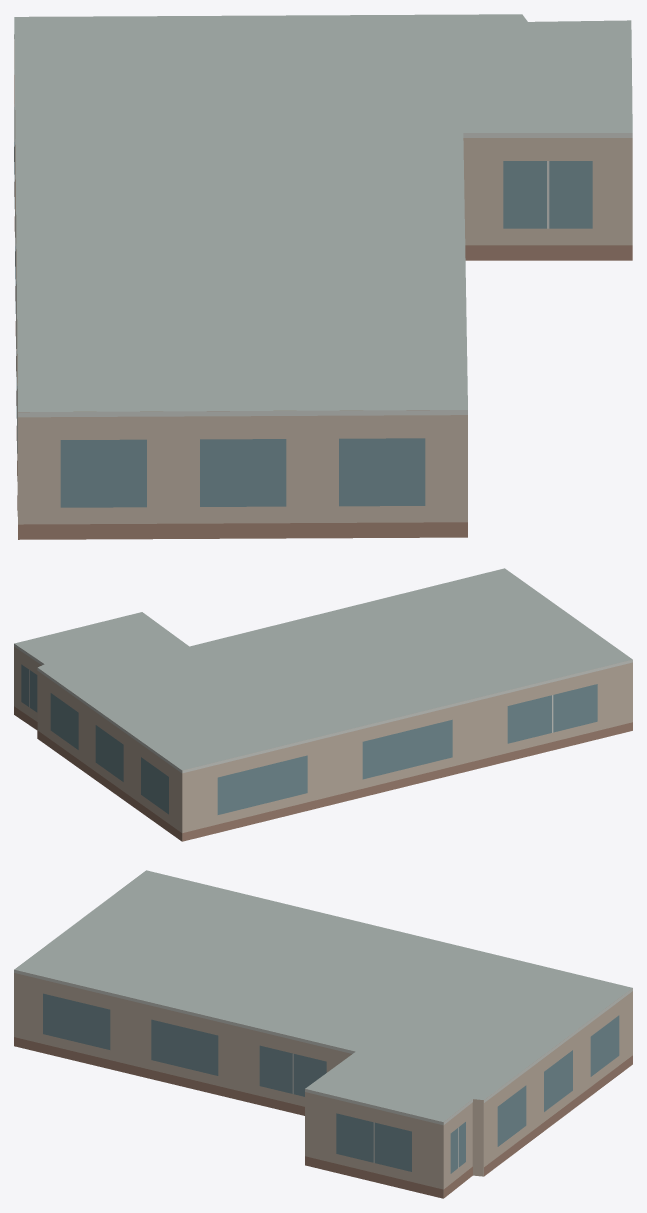
The model's file is survey-upis-32490285.glb.
The picture shows the model from 3 angles, top to bottom: view 1: azimuth 30°, elevation 25°; view 2: azimuth 150°, elevation 25°; view 3: azimuth 270°, elevation 25°; orthographic projection. The views are drawn at different scales.
Visible parts, largest first — view 1: survey-upis-32490285.tmp; view 2: survey-upis-32490285.tmp; view 3: survey-upis-32490285.tmp.
Boxes of the visible parts, x1,y1,x2,y2 form: survey-upis-32490285.tmp: (14,14,632,539); survey-upis-32490285.tmp: (14,568,632,841); survey-upis-32490285.tmp: (14,870,632,1198).
Bounding box in the file's own units: 21.55 × 3.05 × 22.37.
